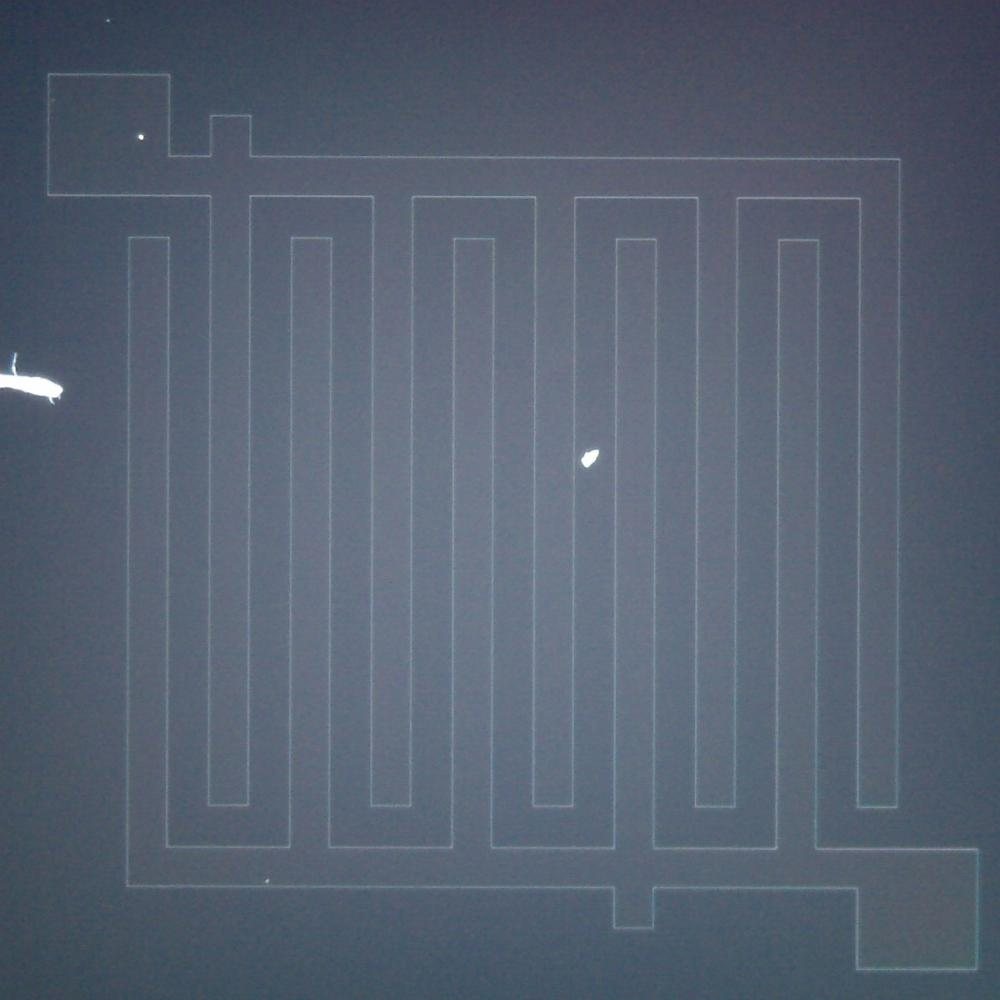Bdot: (581, 448, 600, 468)
curve: (32, 368, 63, 398), (0, 368, 32, 396)
dot: (138, 134, 144, 140), (265, 878, 270, 883), (107, 19, 111, 22)
